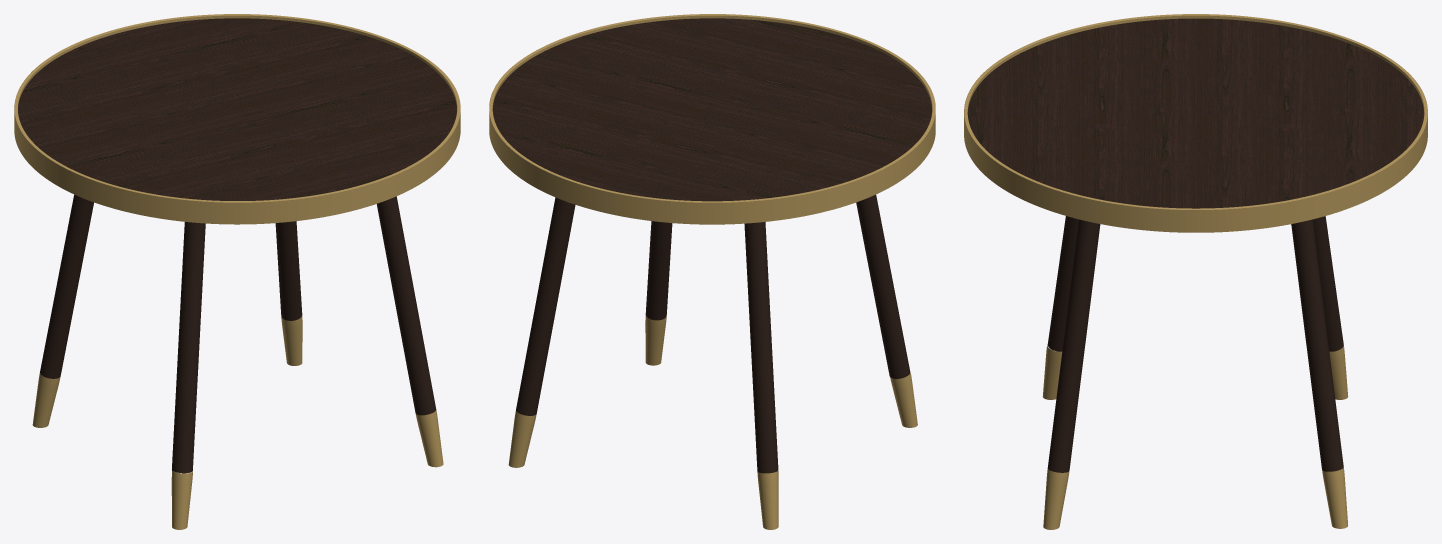
Rendered from concord_coffee_table_small.glb.
3 views of the same model, side by side, from view 1: azimuth 30°, elevation 25°; view 2: azimuth 150°, elevation 25°; view 3: azimuth 270°, elevation 25° (orthographic). The views are drawn at different scales.
Parts seen in each view (by area): view 1: HIGH TOP (1), Group001; view 2: HIGH TOP (1), Group001; view 3: HIGH TOP (1), Group001.
Part boxes in pixels (left/top/right/bottom): HIGH TOP (1): left=18, top=18, right=456, bottom=200; Group001: left=14, top=14, right=460, bottom=529; HIGH TOP (1): left=492, top=18, right=932, bottom=201; Group001: left=489, top=14, right=935, bottom=529; HIGH TOP (1): left=967, top=18, right=1424, bottom=208; Group001: left=964, top=14, right=1427, bottom=529.
Bounding box in the file's own units: 0.508 × 0.4222 × 0.508.
Materials: 2 (1 with a texture image).
